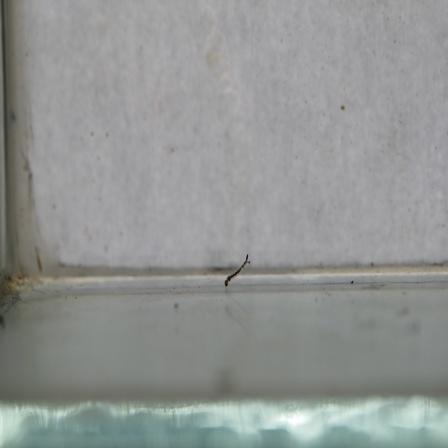Jentik-Nyamuk: (223, 253, 256, 288)
